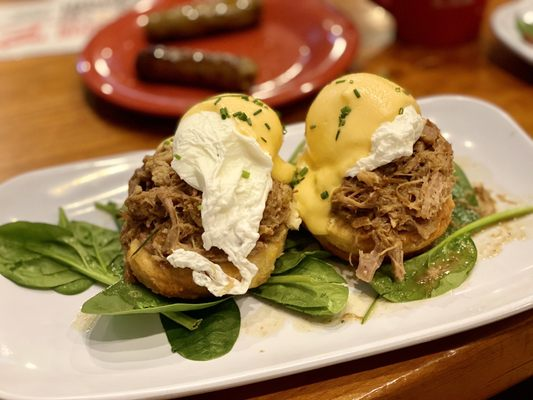soup: (118, 93, 300, 300), (291, 70, 458, 285)
